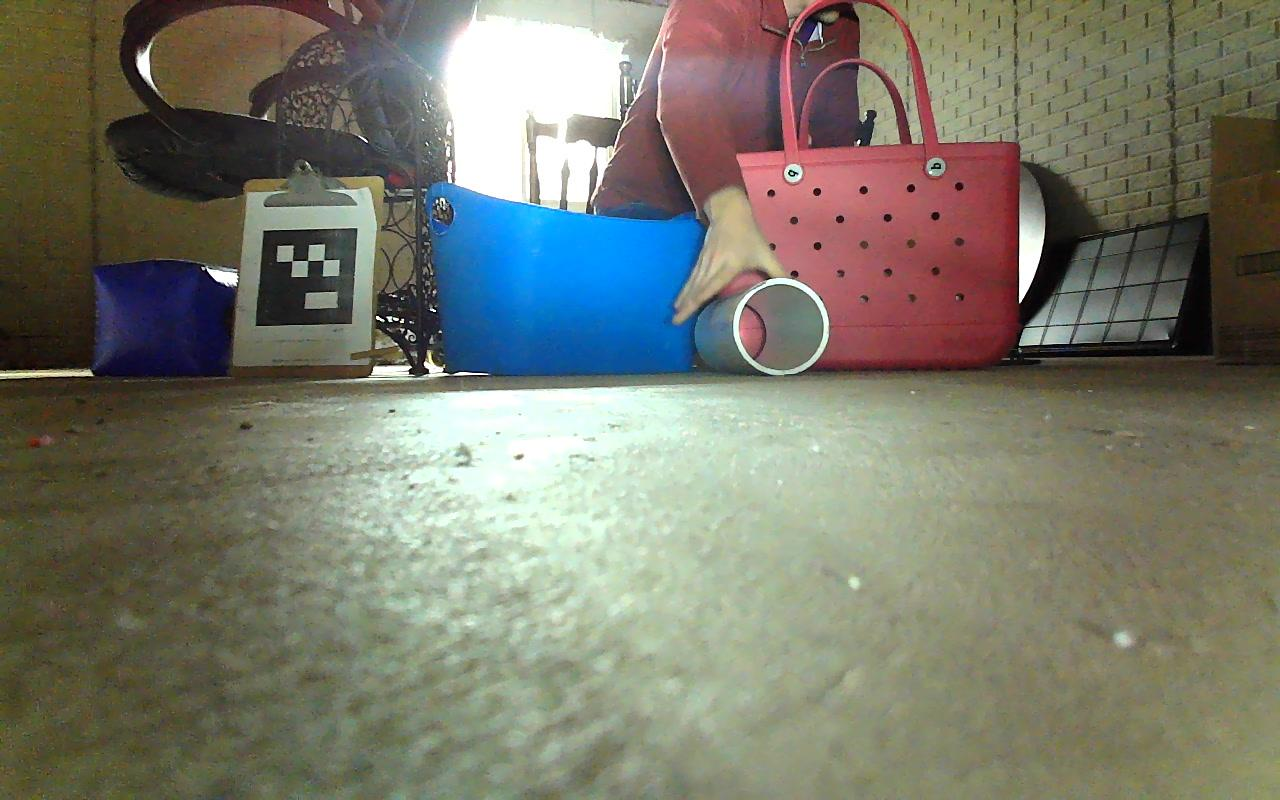coral: (692, 276, 828, 375)
